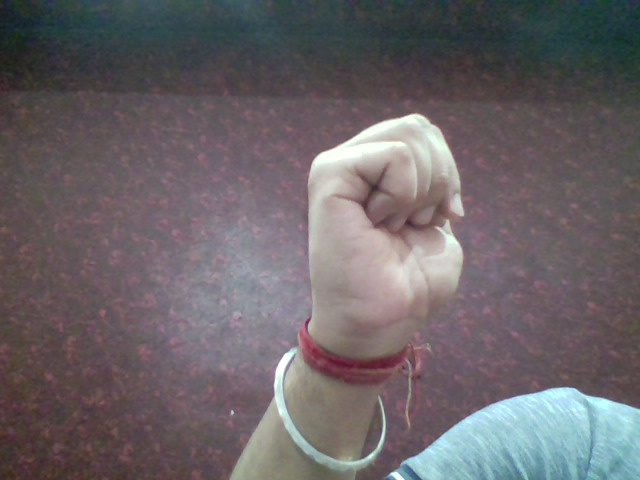m: (288, 105, 476, 327)
